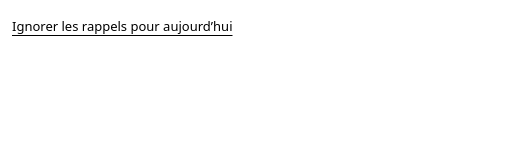
Test: confirme le choix sans appeler record_progress
Click the button "Ignorer les rappels pour aujourd’hui" at (122, 26), box [12,4,232,48]
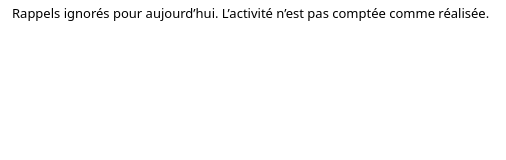
expect the text "Rappels ignorés pour aujourd’hui. L’activité n’est pas comptée comme réalisée." is shown: met, box [12,4,489,22]
